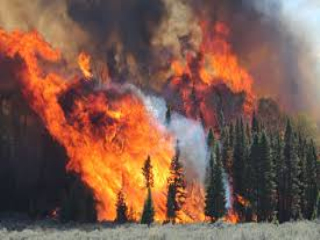fire: (44, 72, 192, 223), (186, 24, 262, 104)
smoke: (31, 1, 179, 83), (241, 5, 316, 115)
